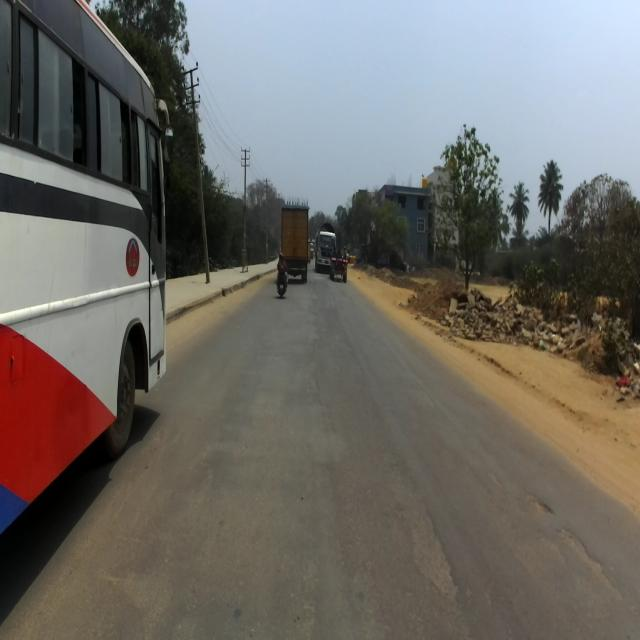bus ahead at: (2, 0, 172, 494)
electric pole ahead at: (180, 56, 223, 286)
truck ahead at: (281, 202, 313, 280)
